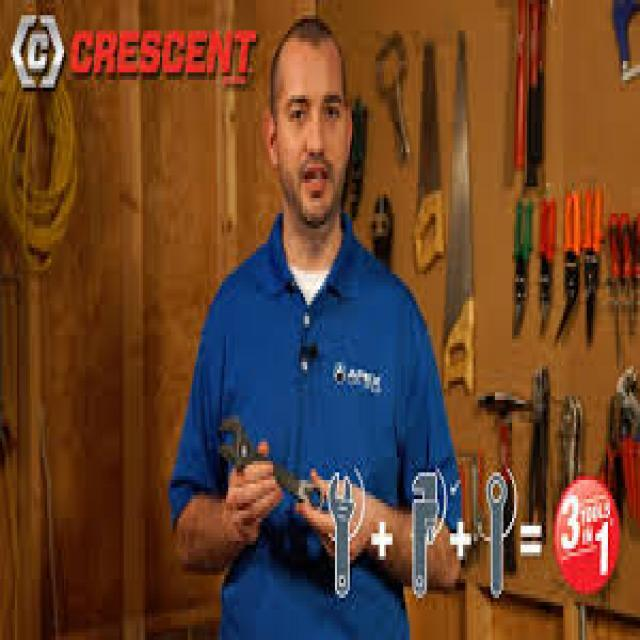hammer: (474, 388, 534, 570)
pliers: (576, 179, 608, 346), (552, 184, 584, 341), (534, 191, 561, 341), (508, 193, 534, 340)
screwdriver: (608, 208, 624, 372), (619, 208, 636, 356)
wrench: (215, 410, 324, 520)
